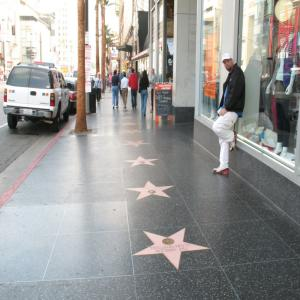Vehicle-registration-plate: (24, 111, 33, 116)
